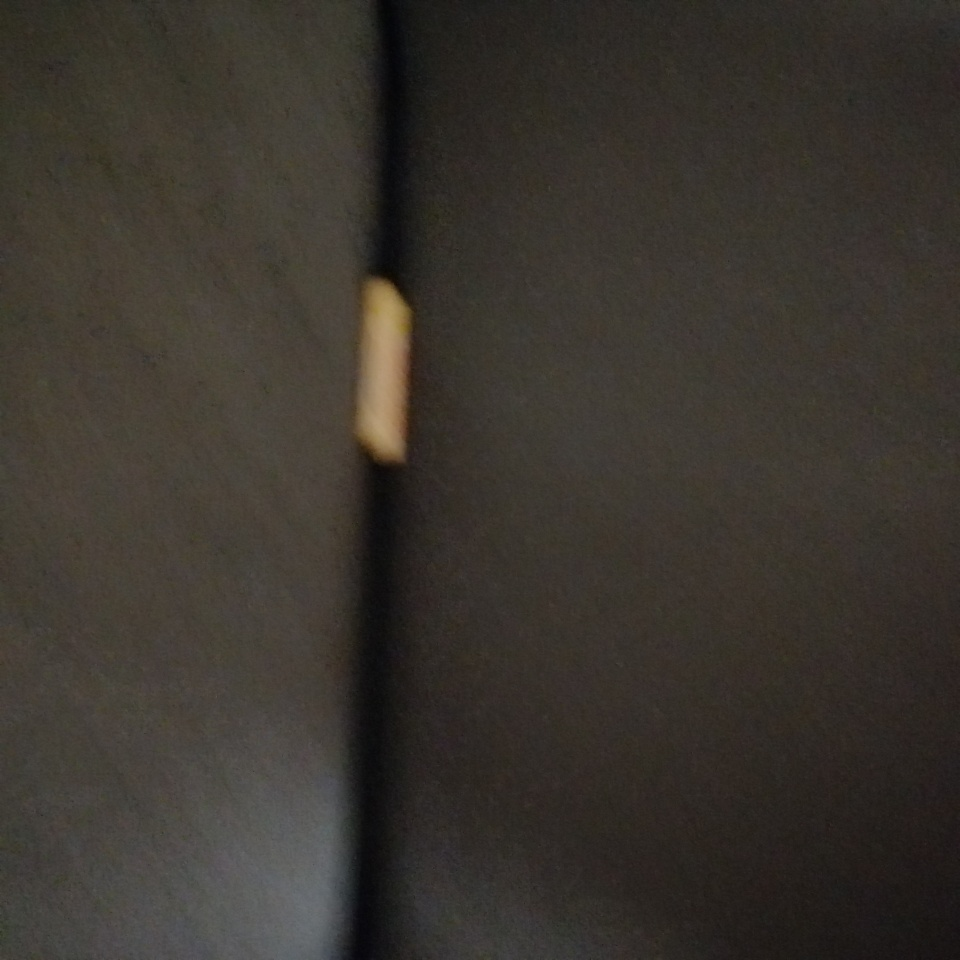chapstick: (355, 273, 414, 472)
